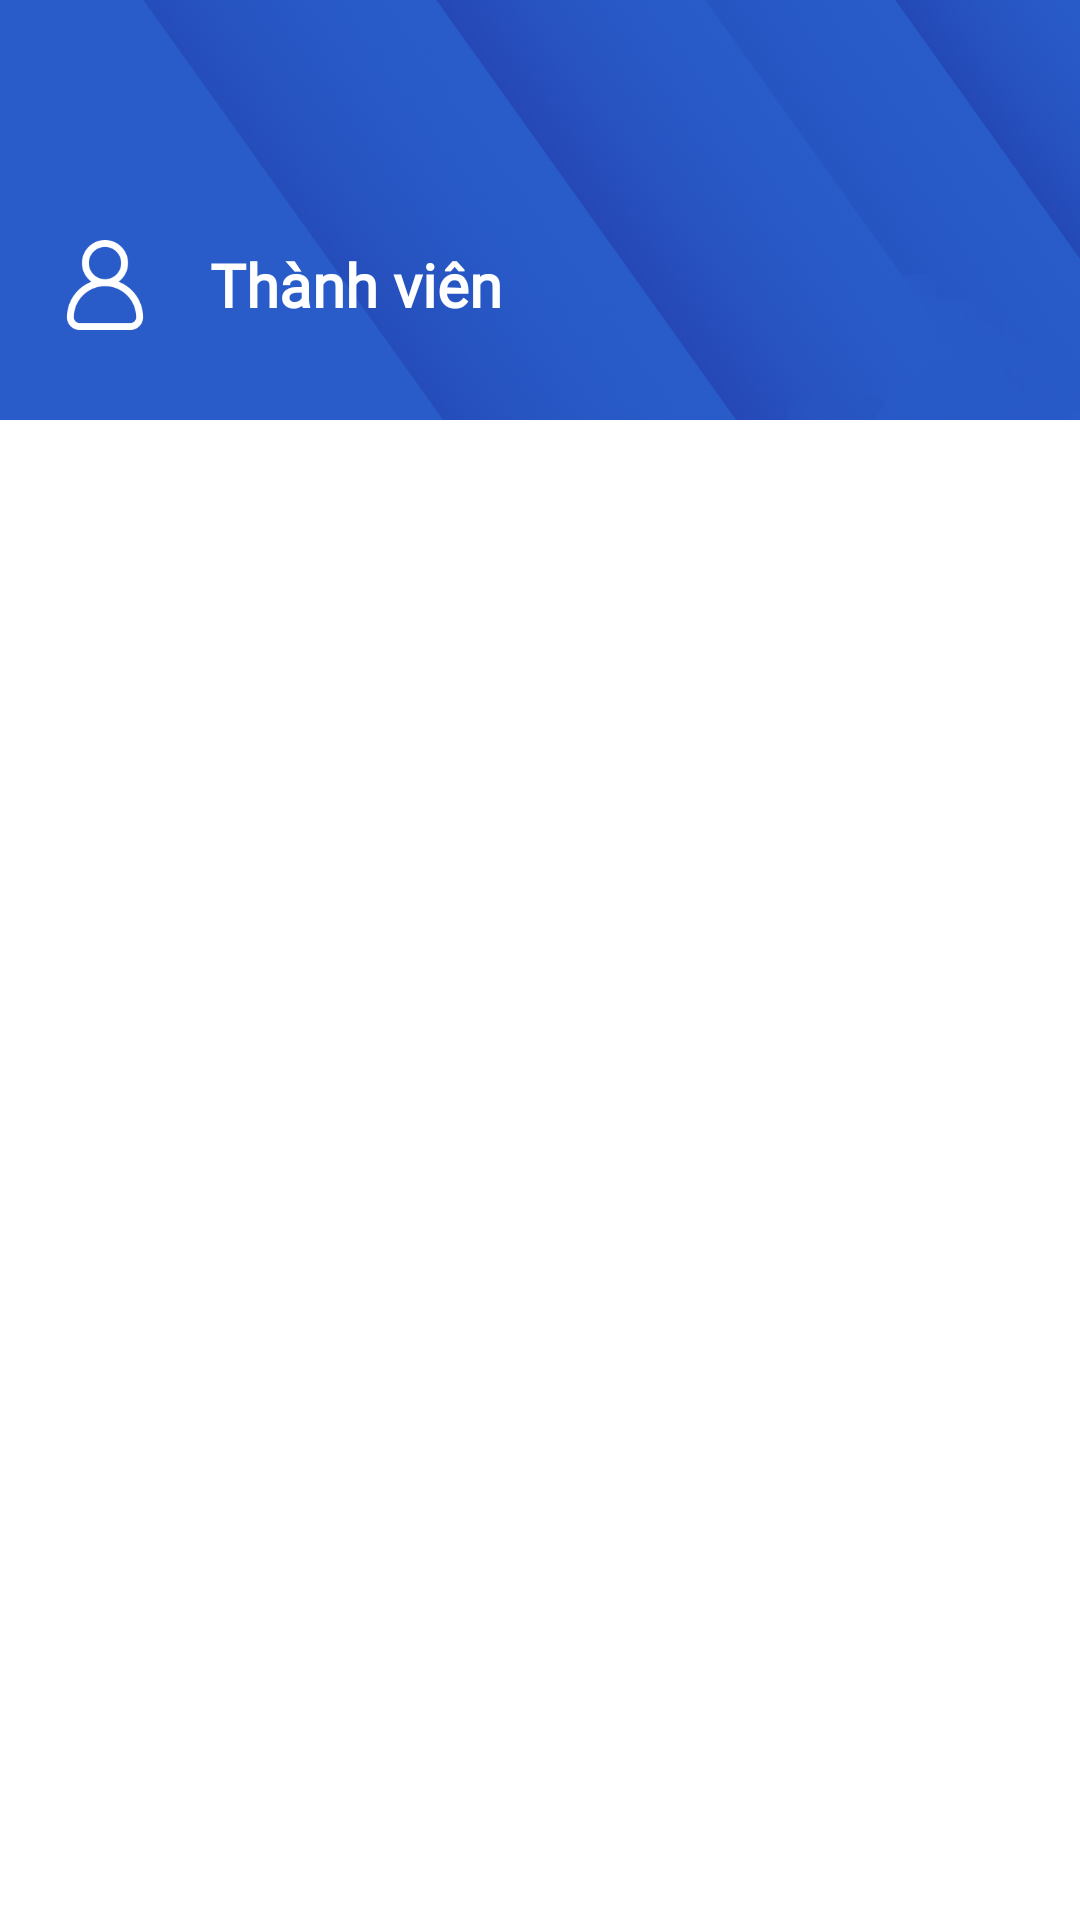

Screen size 1080px×1920px. Icon name, then its center in pixels as (x=x, y=y):
user: (x=105, y=285)
